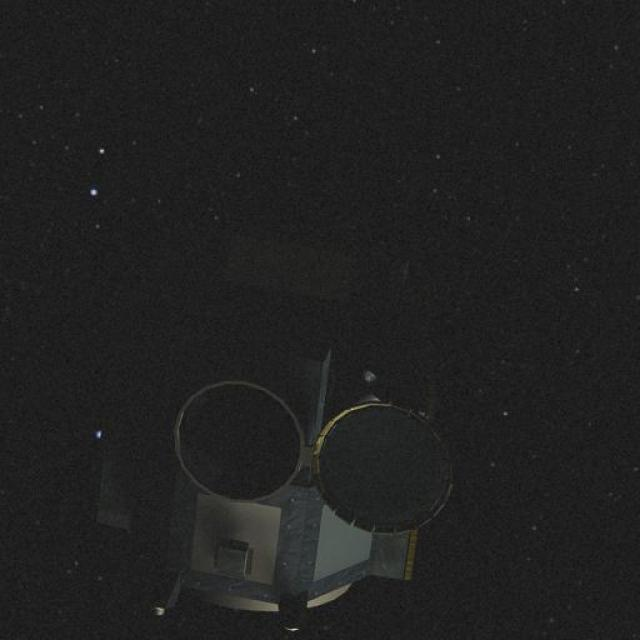cheops: (110, 295, 456, 601)
